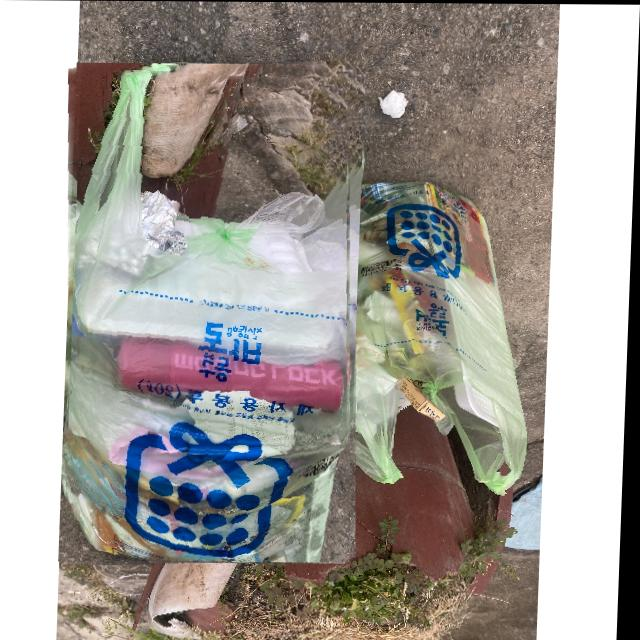general_trashbag: (70, 69, 355, 561)
